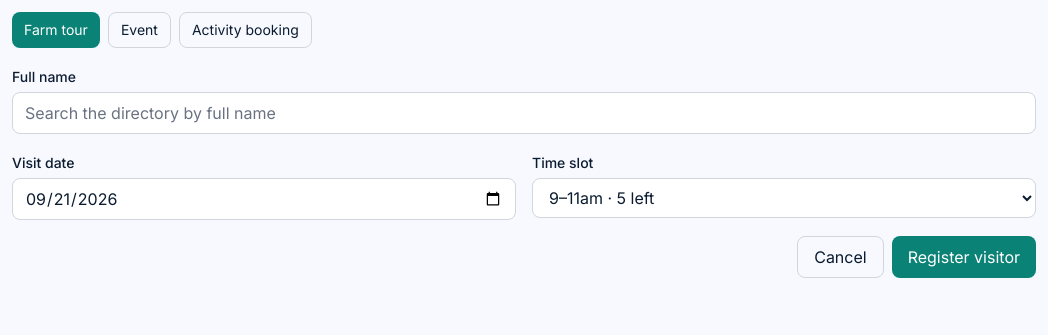
Test: RegistrationForm › refuses a name that is not in the directory
Step 1. Type "Nobody" into the field labelled "Full name" → (524, 113), box [12, 92, 1036, 134]
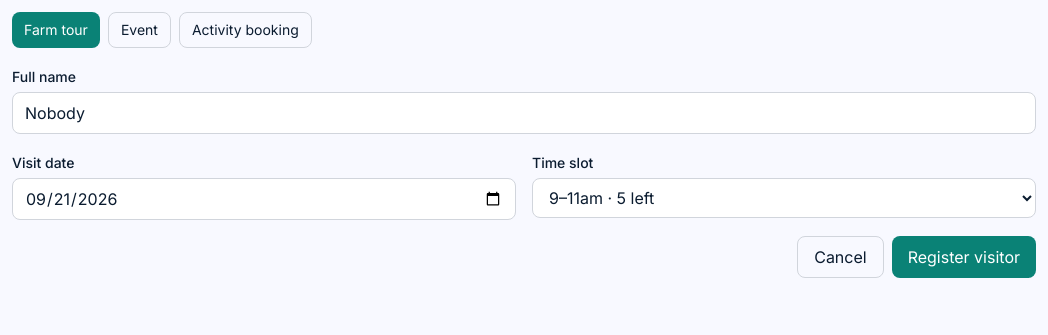
Step 2. Click the button "Register visitor" → (964, 257), box [892, 236, 1036, 278]
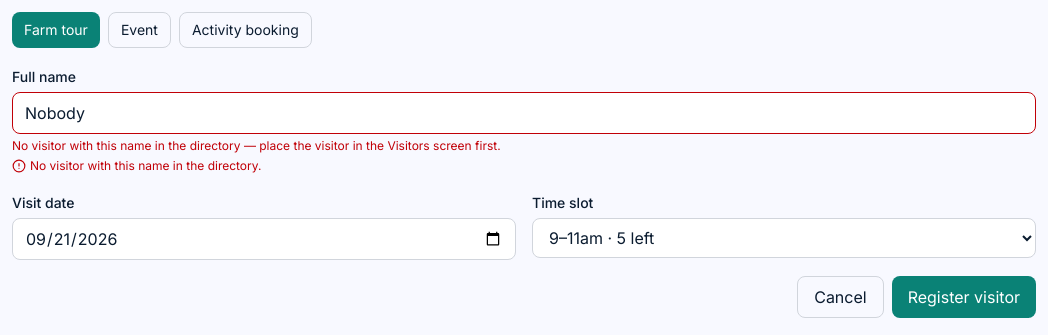
Result: the text "No visitor with this name in the directory." is shown at [30, 158, 262, 174]
